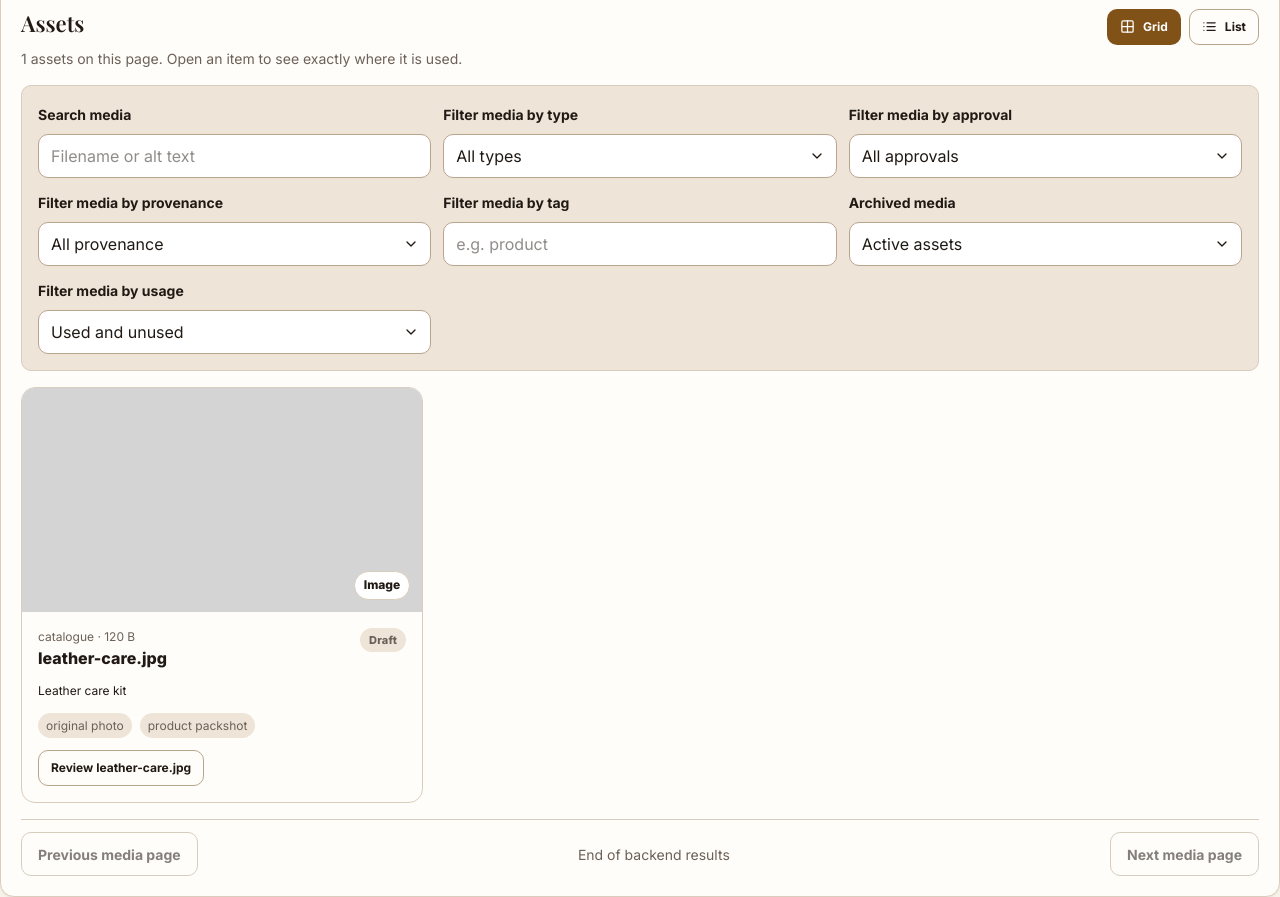
Test: MediaLibrary › lists the references that block archiving instead of claiming success
(page scrolled)
Expected: the heading "leather-care.jpg" is shown, left=38, top=646, right=167, bottom=670
Click the button "Review leather-care.jpg": click(121, 768) left=38, top=750, right=204, bottom=786
(page scrolled)
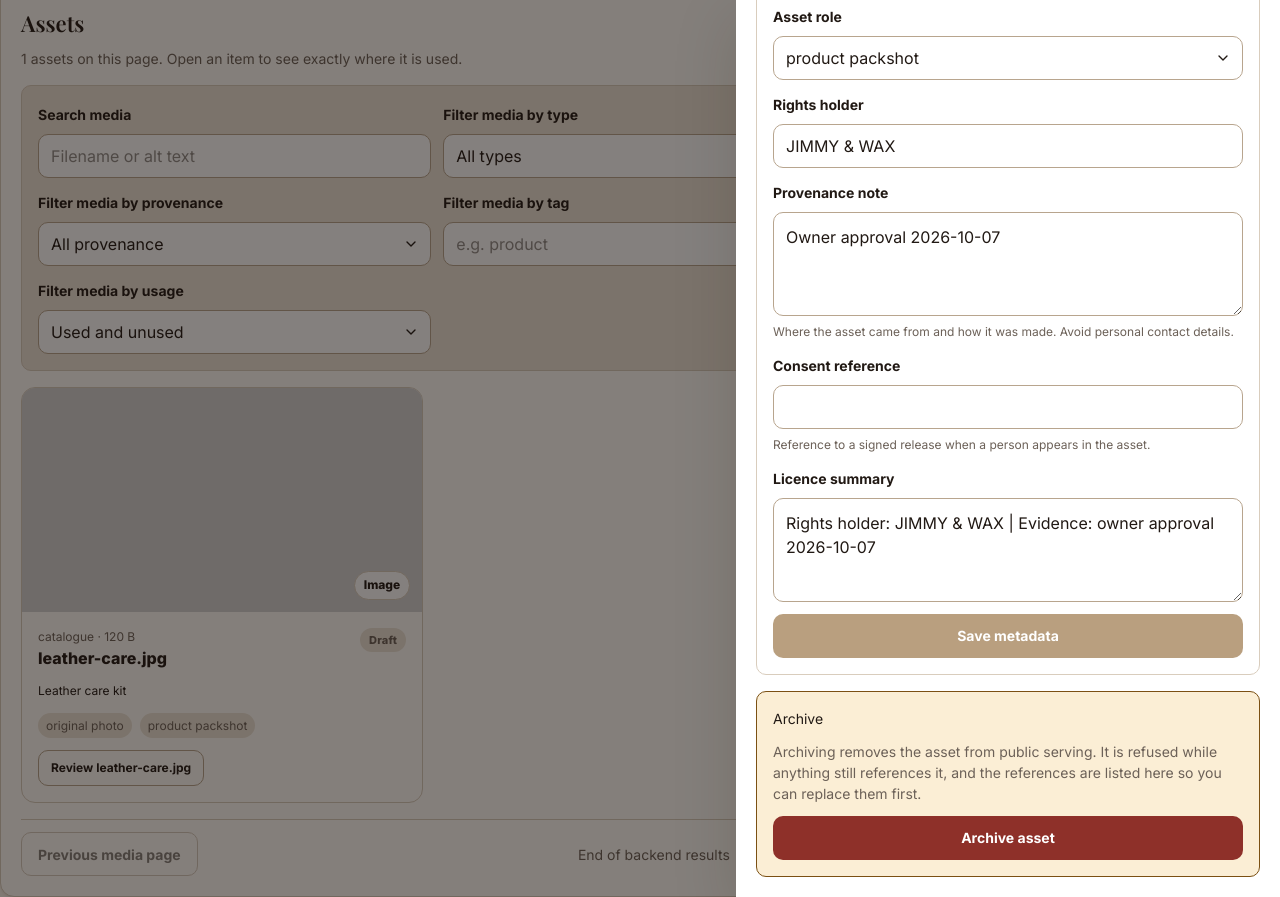
Click the button "Archive asset": click(1008, 838) left=773, top=816, right=1243, bottom=860
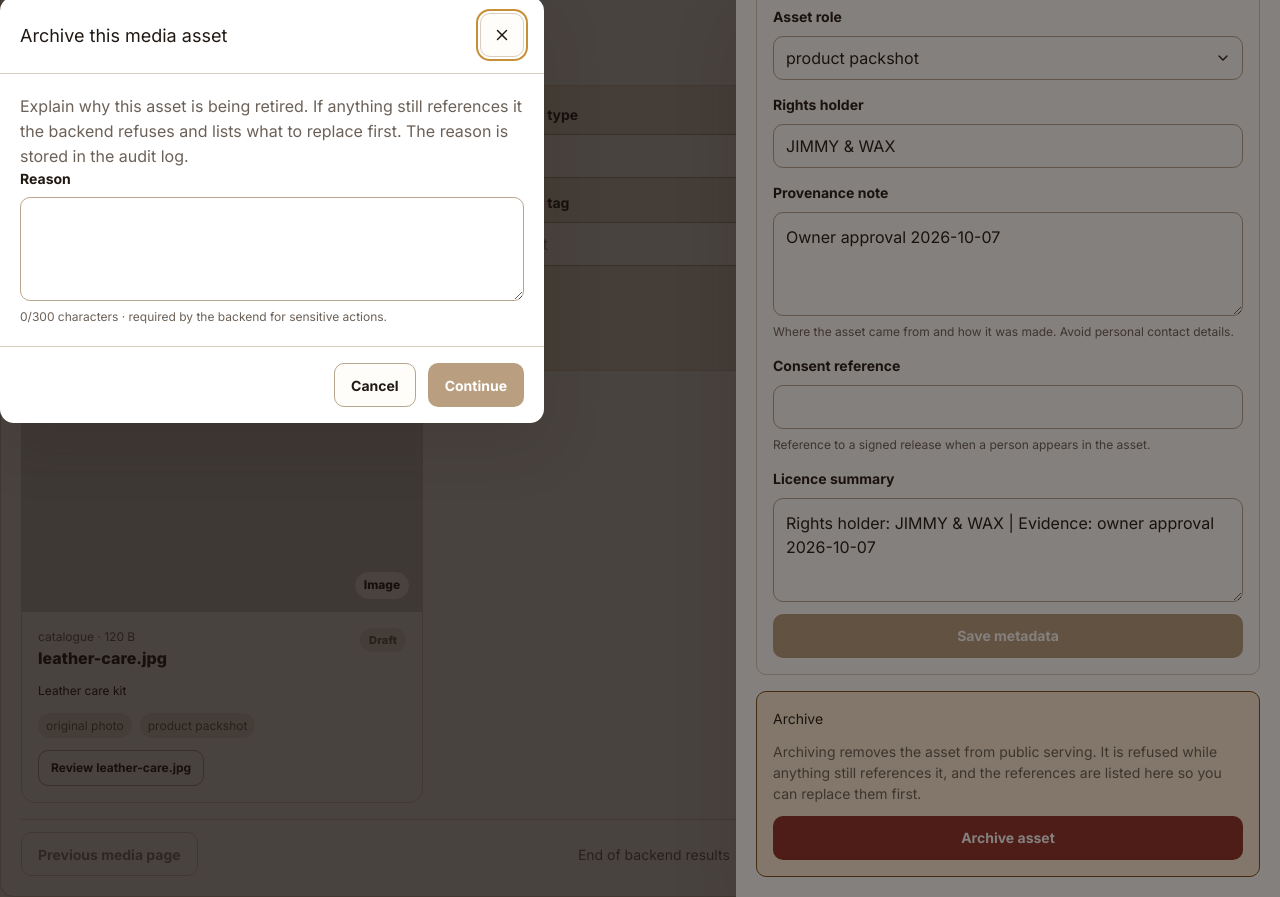
In the text box: (272, 249) left=20, top=197, right=524, bottom=301, type "Retire this asset"
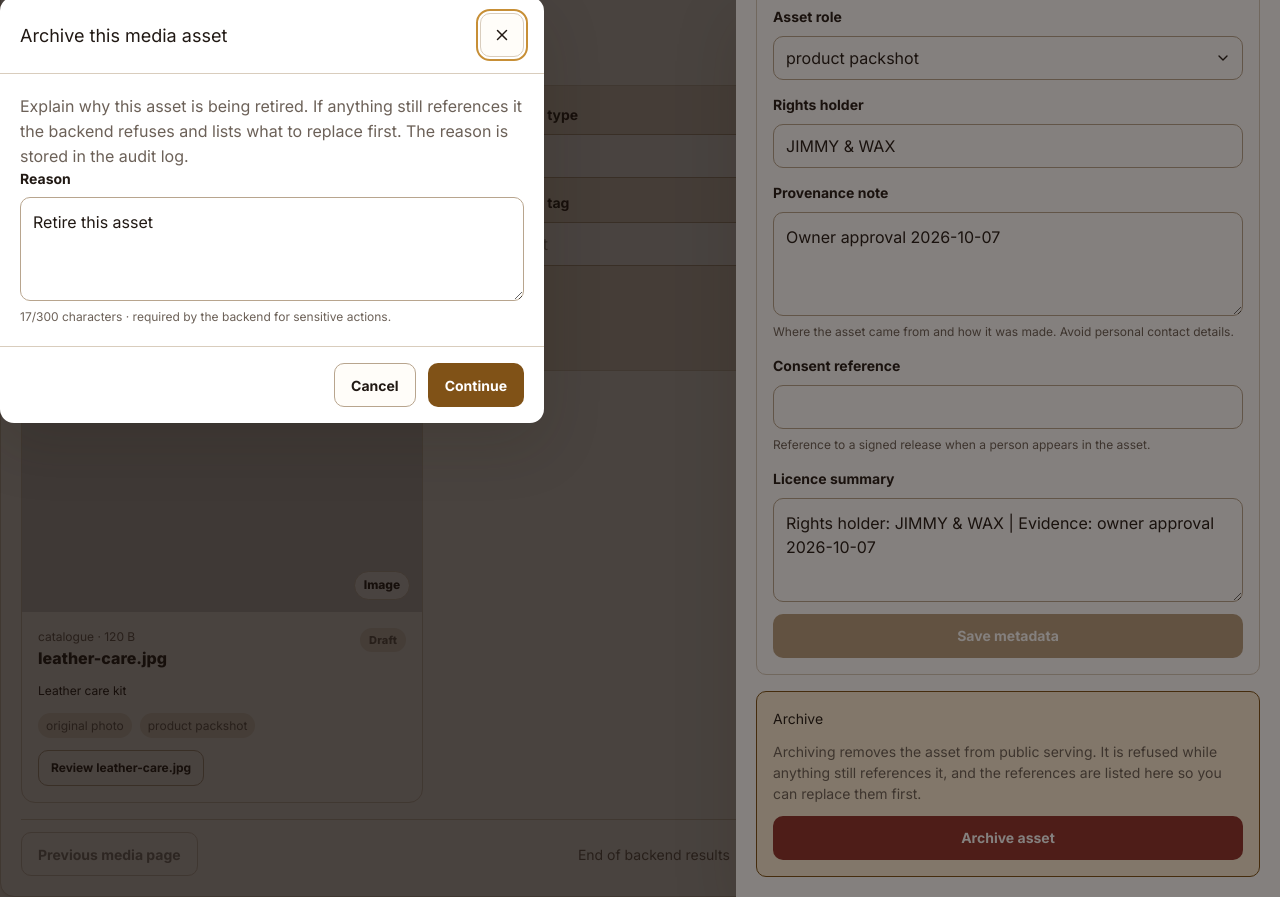
Click the button "Continue": click(476, 385) left=428, top=363, right=524, bottom=407
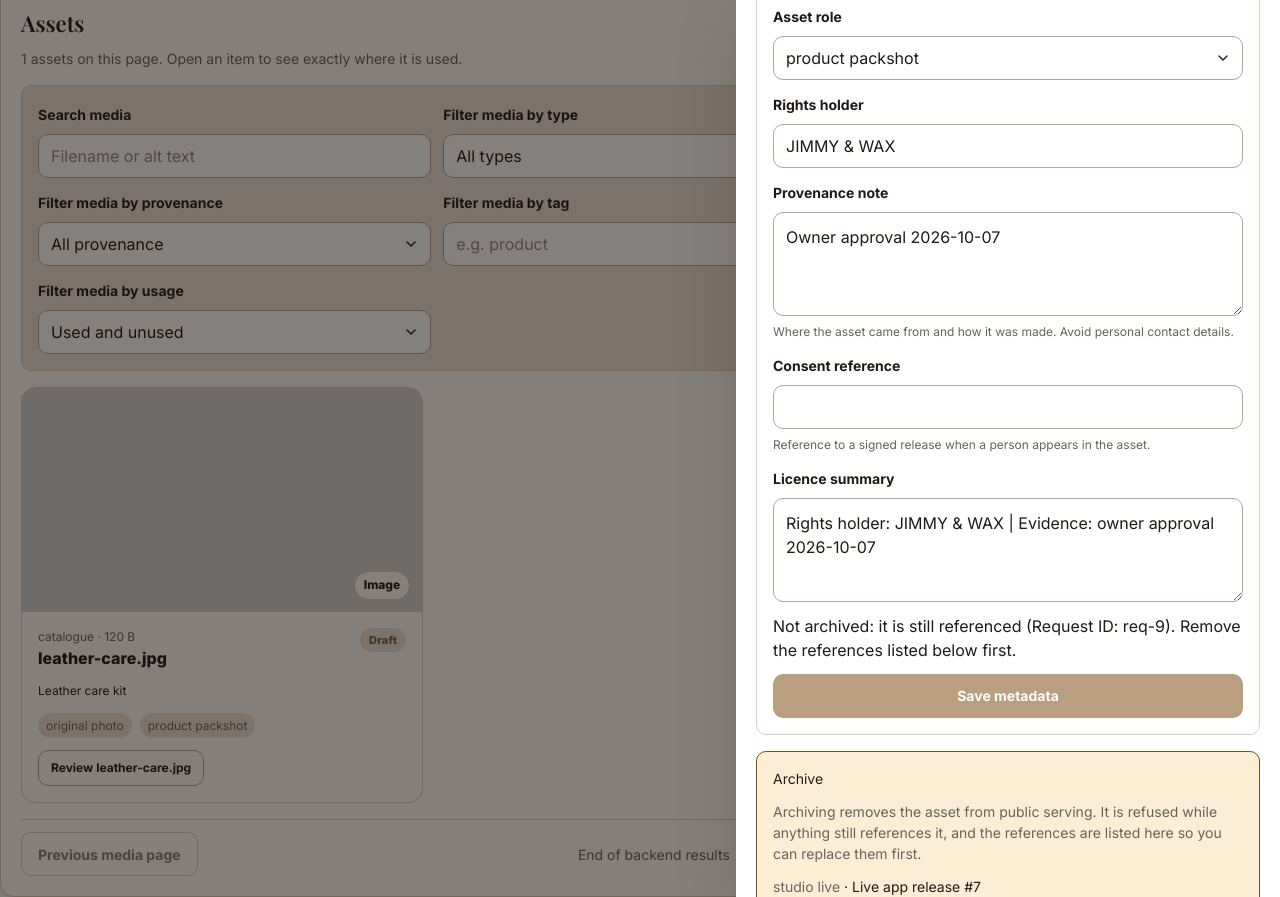
Result: the list named "References that block archiving" shows "Live app release #7" at left=852, top=878, right=981, bottom=895
Result: the text "Not archived: it is still referenced" is shown at left=773, top=616, right=1241, bottom=660
